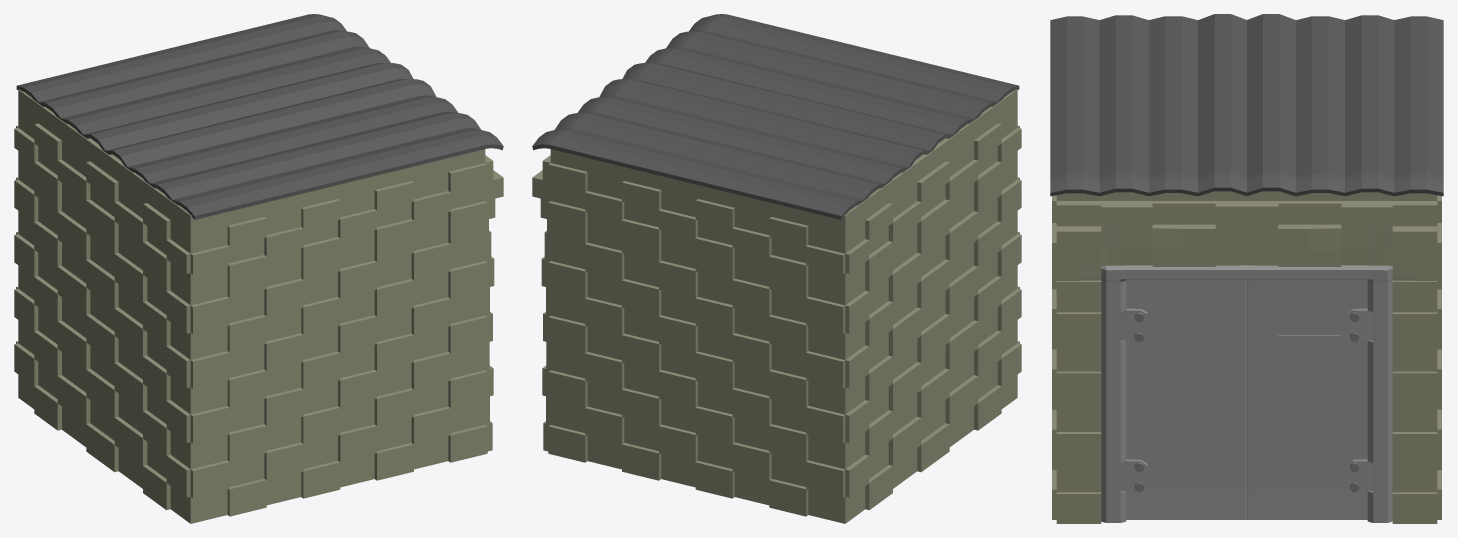
Rendered from garazh.fbx.
3 views of the same model, side by side, from view 1: azimuth 30°, elevation 25°; view 2: azimuth 150°, elevation 25°; view 3: azimuth 270°, elevation 25° (orthographic). The views are drawn at different scales.
Parts seen in each view (by area): view 1: Cube, Cube.003; view 2: Cube, Cube.003; view 3: Cube, Cube.003, Cube.009.
Boxes of the visible parts, x1,y1,x2,y2 form: Cube: [14, 89, 503, 523]; Cube.003: [16, 14, 503, 219]; Cube: [532, 89, 1021, 523]; Cube.003: [532, 14, 1019, 219]; Cube: [1052, 191, 1441, 523]; Cube.003: [1050, 14, 1443, 196]; Cube.009: [1134, 312, 1359, 492].
Bounding box in the file's own units: 215 × 205 × 210.
